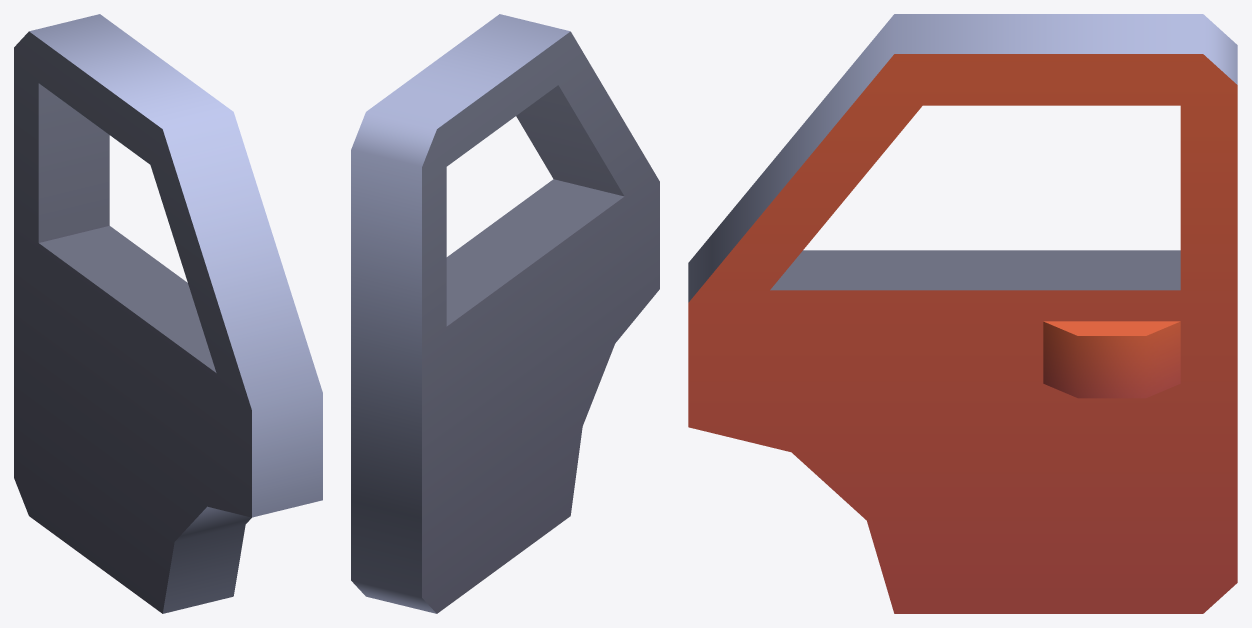
File: debris-door.fbx
The picture shows the model from 3 angles, left to right: view 1: azimuth 30°, elevation 25°; view 2: azimuth 150°, elevation 25°; view 3: azimuth 270°, elevation 25°; orthographic projection. The views are drawn at different scales.
Visible parts, largest first — view 1: debris-door; view 2: debris-door; view 3: debris-door.
Boxes of the visible parts, box(x1,y1,x2,y2) form: debris-door: box(14, 14, 322, 613); debris-door: box(351, 14, 659, 613); debris-door: box(688, 14, 1237, 613).
Size of the model in its own units: 18.8 by 90 by 80.
Materials: 1 (1 with a texture image).
